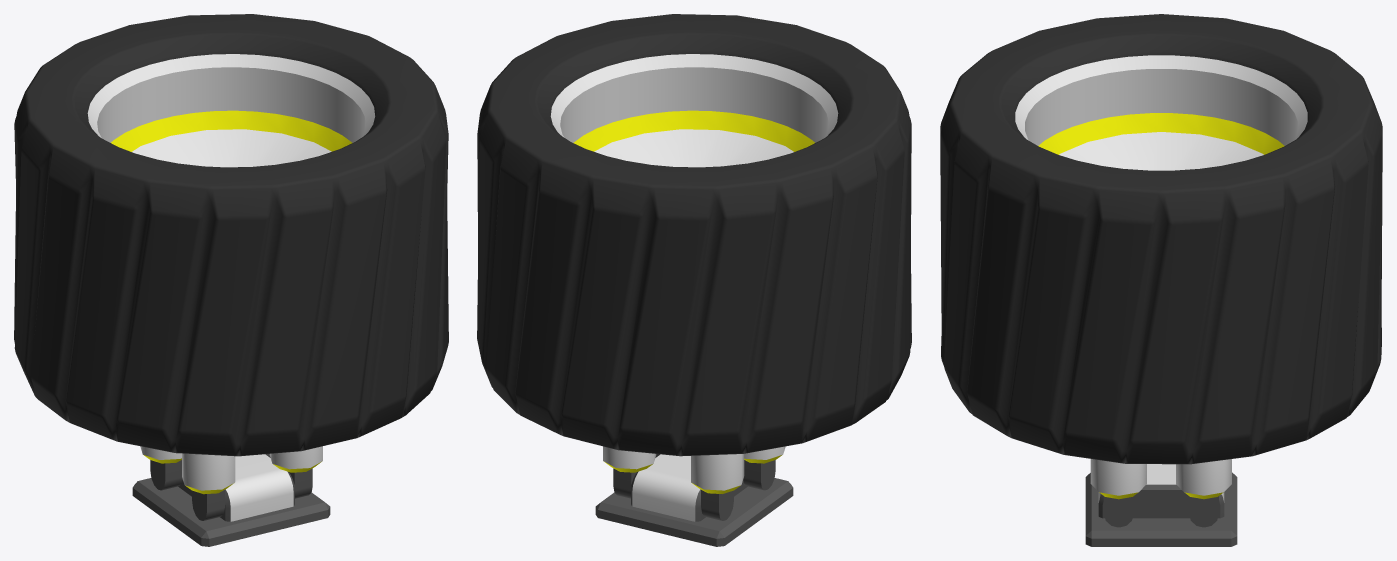
File: WheelLOD0.fbx
3 renders of one model, left to right at view 1: azimuth 30°, elevation 25°; view 2: azimuth 150°, elevation 25°; view 3: azimuth 270°, elevation 25°, orthographic.
Parts seen in each view (by area): view 1: Wheel, baseplate, PistonsBottom, pistonsTop; view 2: Wheel, baseplate, pistonsTop, PistonsBottom; view 3: Wheel, baseplate, PistonsBottom, pistonsTop.
Boxes of the visible parts, x1=… form: Wheel: x1=14, y1=14, x2=448, y2=456; baseplate: x1=132, y1=454, x2=330, y2=546; PistonsBottom: x1=182, y1=446, x2=322, y2=520; pistonsTop: x1=140, y1=446, x2=270, y2=490; Wheel: x1=477, y1=14, x2=911, y2=456; baseplate: x1=595, y1=454, x2=793, y2=546; pistonsTop: x1=603, y1=446, x2=744, y2=520; PistonsBottom: x1=655, y1=446, x2=785, y2=490; Wheel: x1=940, y1=14, x2=1382, y2=464; baseplate: x1=1085, y1=464, x2=1237, y2=546; PistonsBottom: x1=1090, y1=459, x2=1146, y2=527; pistonsTop: x1=1176, y1=459, x2=1231, y2=527.
Size of the model in its own units: 0.0291 by 0.03 by 0.0291.
